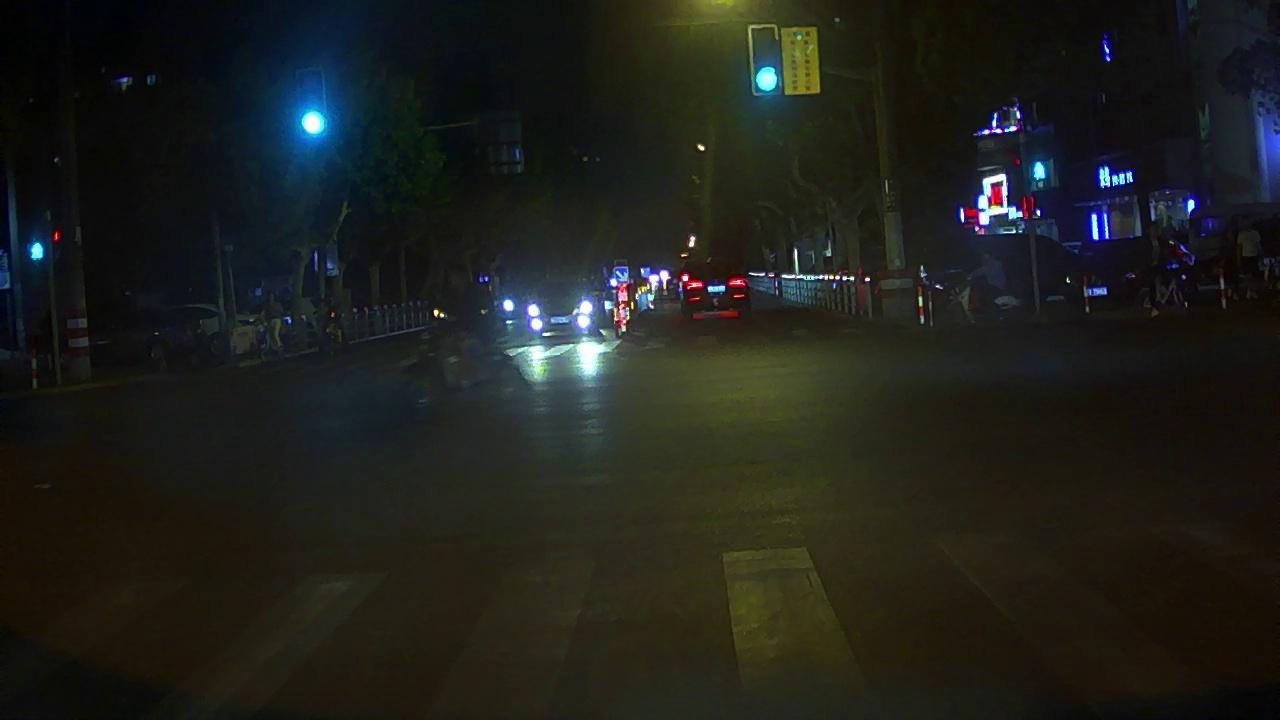traffic_light: (296, 69, 327, 140), (751, 25, 782, 94)
